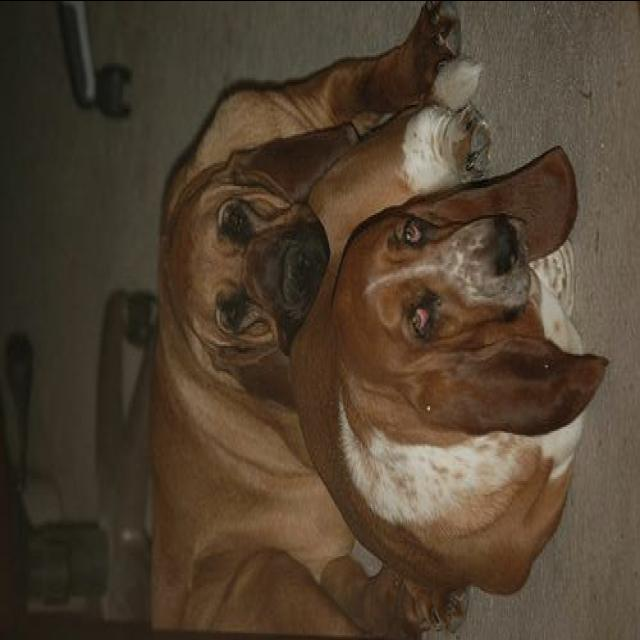bloodhound: (146, 2, 462, 636), (286, 44, 610, 596)
